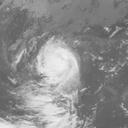cyclone: (37, 36, 80, 91)
